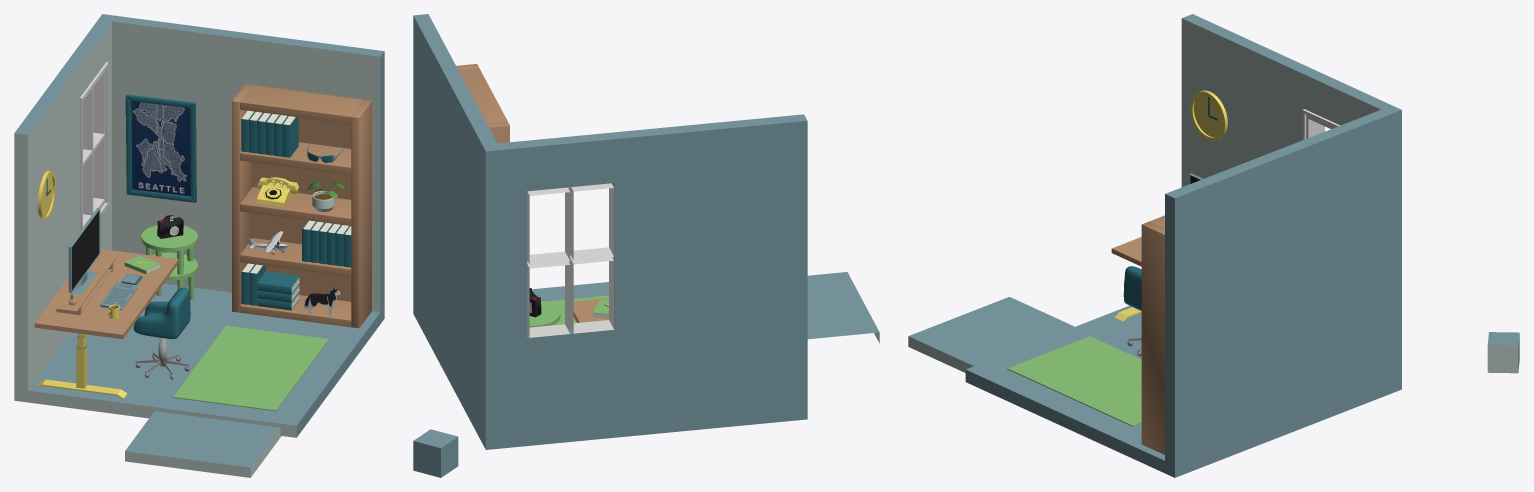
File: Boko9.glb
The picture shows the model from 3 angles, left to right: view 1: azimuth 30°, elevation 25°; view 2: azimuth 150°, elevation 25°; view 3: azimuth 270°, elevation 25°; orthographic projection. The views are drawn at different scales.
Visible parts, largest first — view 1: Body, Bookshelf, Rug, Mini Floor, Frame, Desk, Coffee Table, Chair Top, Computer, Computer Stand, Phone, Row3Book5 (+10 smaller); view 2: Body, Mini Floor, Cube, Bookshelf, Desk, Coffee Table; view 3: Body, Rug, Mini Floor, Bookshelf, Clock, Cube, Desk, Chair Top.
Part boxes in pixels (x1=…): Body: x1=14, y1=14, x2=384, y2=437; Bookshelf: x1=232, y1=84, x2=371, y2=328; Rug: x1=173, y1=325, x2=328, y2=411; Mini Floor: x1=125, y1=411, x2=281, y2=477; Frame: x1=125, y1=94, x2=196, y2=202; Desk: x1=34, y1=249, x2=178, y2=398; Coffee Table: x1=141, y1=225, x2=197, y2=302; Chair Top: x1=133, y1=287, x2=190, y2=338; Computer: x1=68, y1=208, x2=100, y2=294; Computer Stand: x1=53, y1=255, x2=116, y2=314; Phone: x1=256, y1=177, x2=298, y2=206; Row3Book5: x1=257, y1=271, x2=299, y2=294; Body: x1=413, y1=14, x2=807, y2=449; Mini Floor: x1=807, y1=272, x2=879, y2=343; Cube: x1=413, y1=429, x2=458, y2=477; Bookshelf: x1=456, y1=64, x2=509, y2=143; Desk: x1=573, y1=298, x2=608, y2=322; Coffee Table: x1=529, y1=300, x2=560, y2=327; Body: x1=965, y1=14, x2=1401, y2=477; Rug: x1=1007, y1=336, x2=1141, y2=426; Mini Floor: x1=908, y1=297, x2=1074, y2=372; Bookshelf: x1=1141, y1=215, x2=1164, y2=454; Clock: x1=1190, y1=90, x2=1227, y2=140; Cube: x1=1487, y1=332, x2=1519, y2=373; Desk: x1=1111, y1=237, x2=1141, y2=321; Chair Top: x1=1123, y1=266, x2=1141, y2=310.
Size of the model in its own units: 27.58 by 19.65 by 38.62.
28 materials, 2 textured.
